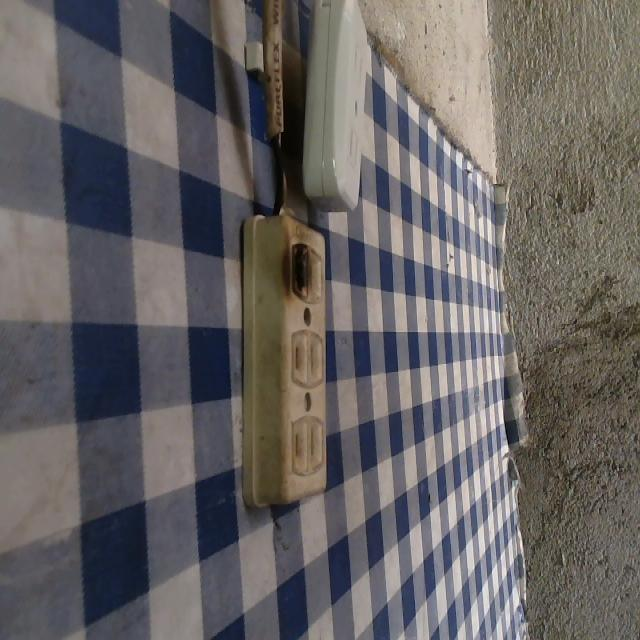-: (277, 235, 318, 304)
